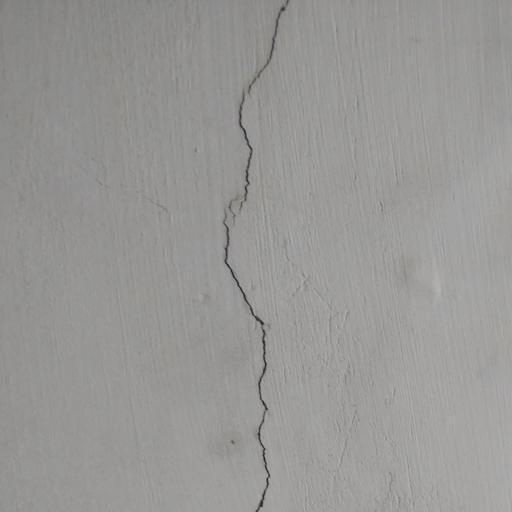major_crack: (197, 5, 334, 512)
